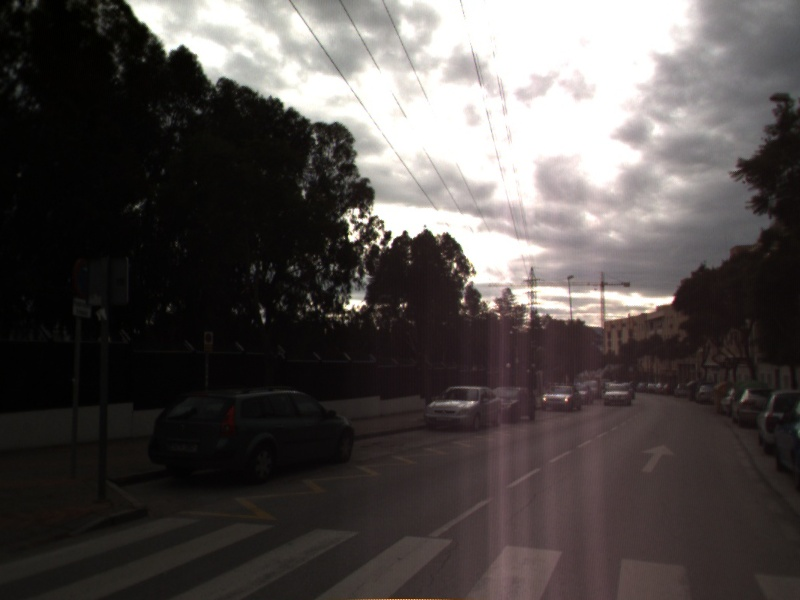STRAIGHT: (638, 442, 678, 475)
